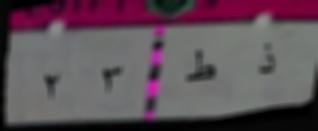2: (36, 67, 66, 110)
3: (97, 58, 127, 97)
Taa: (183, 49, 218, 86)
zaal: (249, 35, 280, 80)
